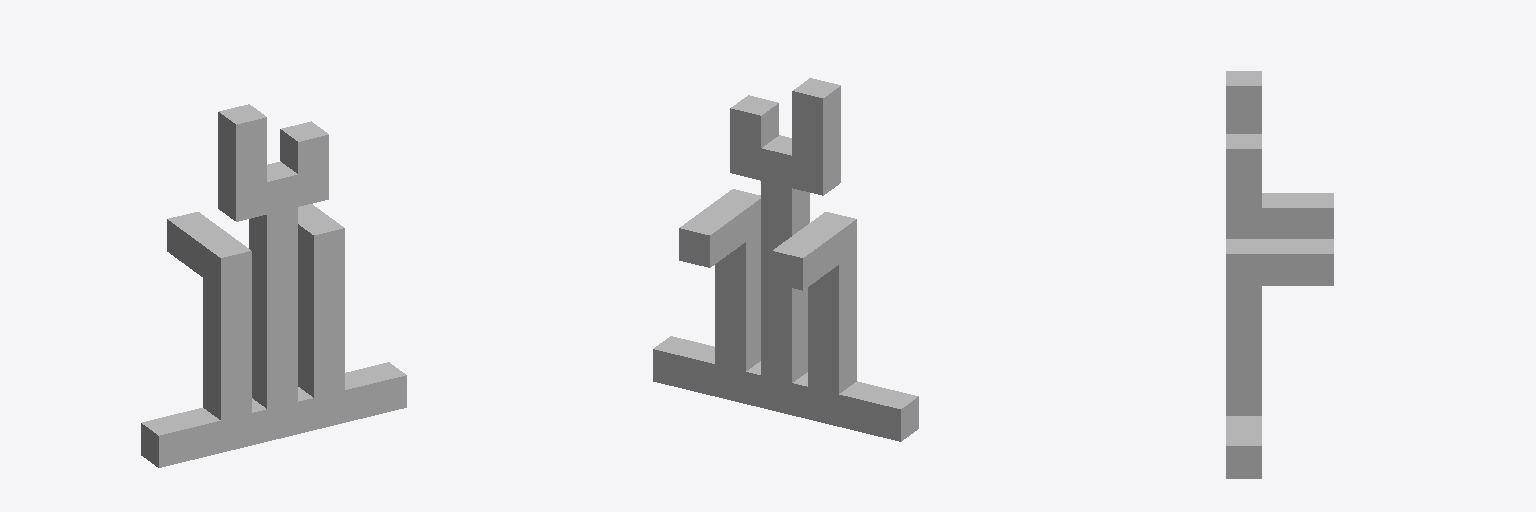
The model's file is peripheral_probe.obj.
3 renders of one model, left to right at view 1: azimuth 30°, elevation 25°; view 2: azimuth 150°, elevation 25°; view 3: azimuth 270°, elevation 25°, orthographic.
Visible parts, largest first — view 1: Shaft, Bar3, Bar1, Bar2, Probe3Left, Probe3Right, Probe1; view 2: Shaft, Bar3, Bar1, Bar2, Probe3Left, Probe2, Probe1, Probe3Right; view 3: Bar2, Probe2, Probe1, Probe3Right, Shaft, Probe3Left, Bar3.
Part boxes in pixels (x1,y1,x2,y2): Shaft: (141, 362, 406, 467); Bar3: (249, 161, 297, 408); Bar1: (203, 238, 251, 419); Bar2: (298, 215, 344, 397); Probe3Left: (218, 104, 266, 221); Probe3Right: (280, 121, 328, 206); Probe1: (167, 212, 233, 276); Shaft: (653, 336, 918, 441); Bar3: (761, 135, 809, 382); Bar1: (808, 212, 856, 393); Bar2: (715, 189, 760, 371); Probe3Left: (792, 78, 840, 195); Probe2: (679, 202, 745, 267); Probe1: (772, 225, 838, 290); Probe3Right: (730, 95, 778, 180); Bar2: (1226, 239, 1261, 415); Probe2: (1262, 239, 1333, 285); Probe1: (1262, 193, 1333, 238); Probe3Right: (1226, 134, 1261, 213); Shaft: (1226, 416, 1261, 478); Probe3Left: (1226, 71, 1261, 133); Bar3: (1226, 214, 1261, 238).
Size of the model in its own units: 0.5 by 0.625 by 0.1875.